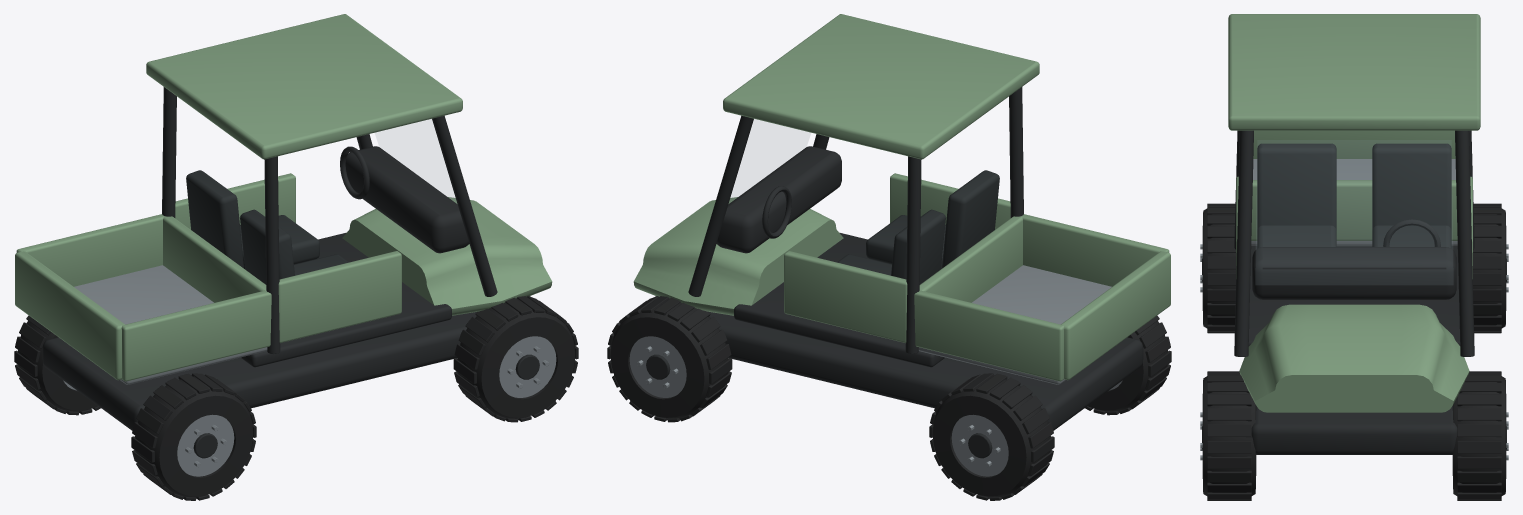
The model's file is mobility_buggy.glb.
The picture shows the model from 3 angles, left to right: view 1: azimuth 30°, elevation 25°; view 2: azimuth 150°, elevation 25°; view 3: azimuth 270°, elevation 25°; orthographic projection. The views are drawn at different scales.
Parts seen in each view (by area): view 1: Roof, Skid, Bonnet, Bed side, Half door, Tailgate, Dashboard, Tyre.003, Tyre.001, Bed side.001, Bed floor, Cab floor (+13 smaller); view 2: Roof, Skid, Bonnet, Bed side.001, Half door.001, Tailgate, Dashboard, Tyre.002, Tyre, Bed side, Bed floor, Cab floor (+13 smaller); view 3: Roof, Windshield, Bonnet, Dashboard, Skid, Seat back, Seat back.001, Tailgate, A pillar, A pillar.001, Bed front, Cab floor (+32 smaller).
Boxes of the visible parts, x1,y1,x2,y2 form: Roof: [146, 14, 462, 159]; Skid: [42, 296, 530, 430]; Bonnet: [342, 197, 552, 315]; Bed side: [121, 290, 271, 381]; Half door: [278, 251, 401, 342]; Tailgate: [15, 251, 124, 380]; Dashboard: [345, 146, 469, 253]; Tyre.003: [135, 376, 253, 497]; Tyre.001: [457, 298, 575, 418]; Bed side.001: [16, 214, 163, 286]; Bed floor: [74, 265, 267, 384]; Cab floor: [240, 232, 451, 367]; Roof: [723, 14, 1039, 159]; Skid: [655, 296, 1143, 430]; Bonnet: [633, 197, 843, 315]; Bed side.001: [914, 290, 1064, 381]; Half door.001: [784, 251, 907, 342]; Tailgate: [1061, 251, 1170, 380]; Dashboard: [716, 146, 841, 253]; Tyre.002: [932, 376, 1050, 497]; Tyre: [610, 298, 728, 418]; Bed side: [1021, 214, 1169, 286]; Bed floor: [918, 265, 1111, 384]; Cab floor: [734, 232, 945, 367]; Roof: [1228, 14, 1480, 130]; Windshield: [1256, 140, 1452, 284]; Bonnet: [1239, 304, 1469, 412]; Dashboard: [1252, 247, 1456, 299]; Skid: [1251, 406, 1457, 454]; Seat back: [1257, 143, 1336, 230]; Seat back.001: [1372, 143, 1451, 230]; Tailgate: [1253, 130, 1455, 158]; A pillar: [1234, 130, 1253, 356]; A pillar.001: [1455, 130, 1474, 356]; Bed front: [1251, 180, 1457, 240]; Cab floor: [1248, 246, 1460, 346].
Bounding box in the file's own units: 2.76 × 1.95 × 1.55.
